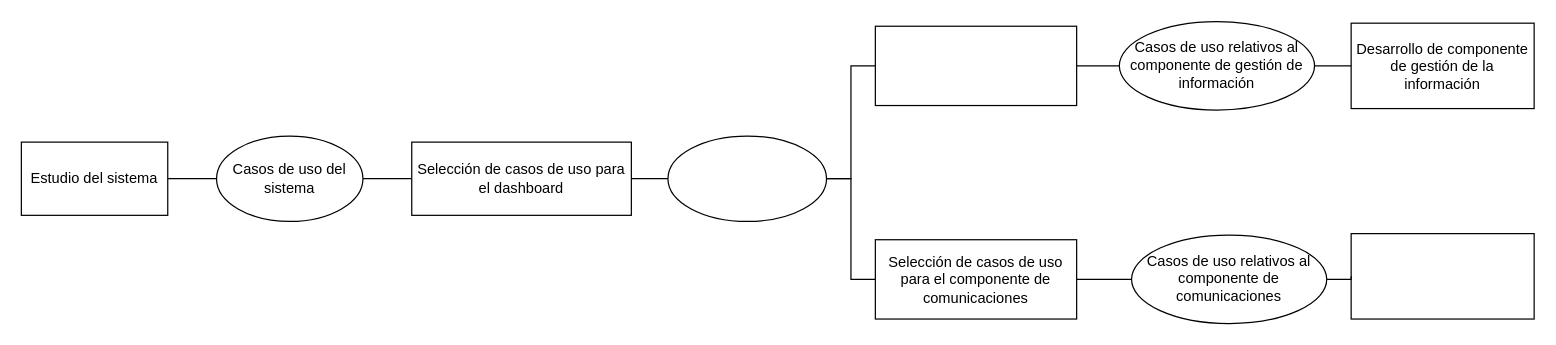
This 1556x345 diagram has some shape labels left out. Each missing label, with the centre of its shape:
Casos de uso relativos al dashboard: the point at 747,178
Desarrollo de componente de comunicaciones: the point at 1442,275
Selección de casos de uso para el componente de gestión de la información: the point at 975,65
